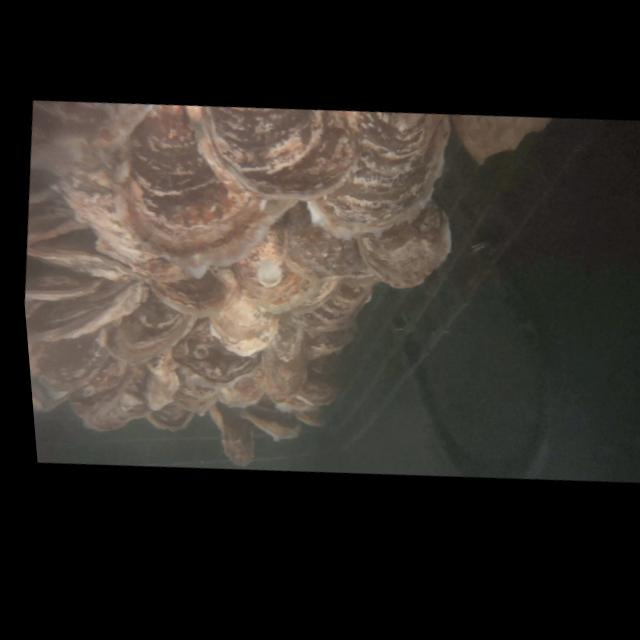Oyster-Closed: (22, 263, 104, 309)
Oyster-Indeterminate: (11, 85, 211, 297), (111, 90, 310, 294), (297, 98, 461, 253), (191, 92, 362, 213), (221, 211, 348, 324), (349, 191, 460, 297), (22, 265, 153, 354), (92, 281, 202, 372), (278, 194, 380, 287), (164, 309, 268, 398), (201, 261, 287, 363), (286, 271, 375, 367), (66, 356, 155, 438), (27, 321, 112, 398), (144, 262, 231, 324), (201, 398, 259, 471), (236, 388, 306, 447), (168, 361, 223, 419), (139, 346, 185, 414), (73, 350, 130, 403), (213, 361, 269, 412), (266, 310, 307, 365), (293, 376, 339, 409)
Oyster-Open: (22, 217, 147, 291), (143, 397, 196, 435)
